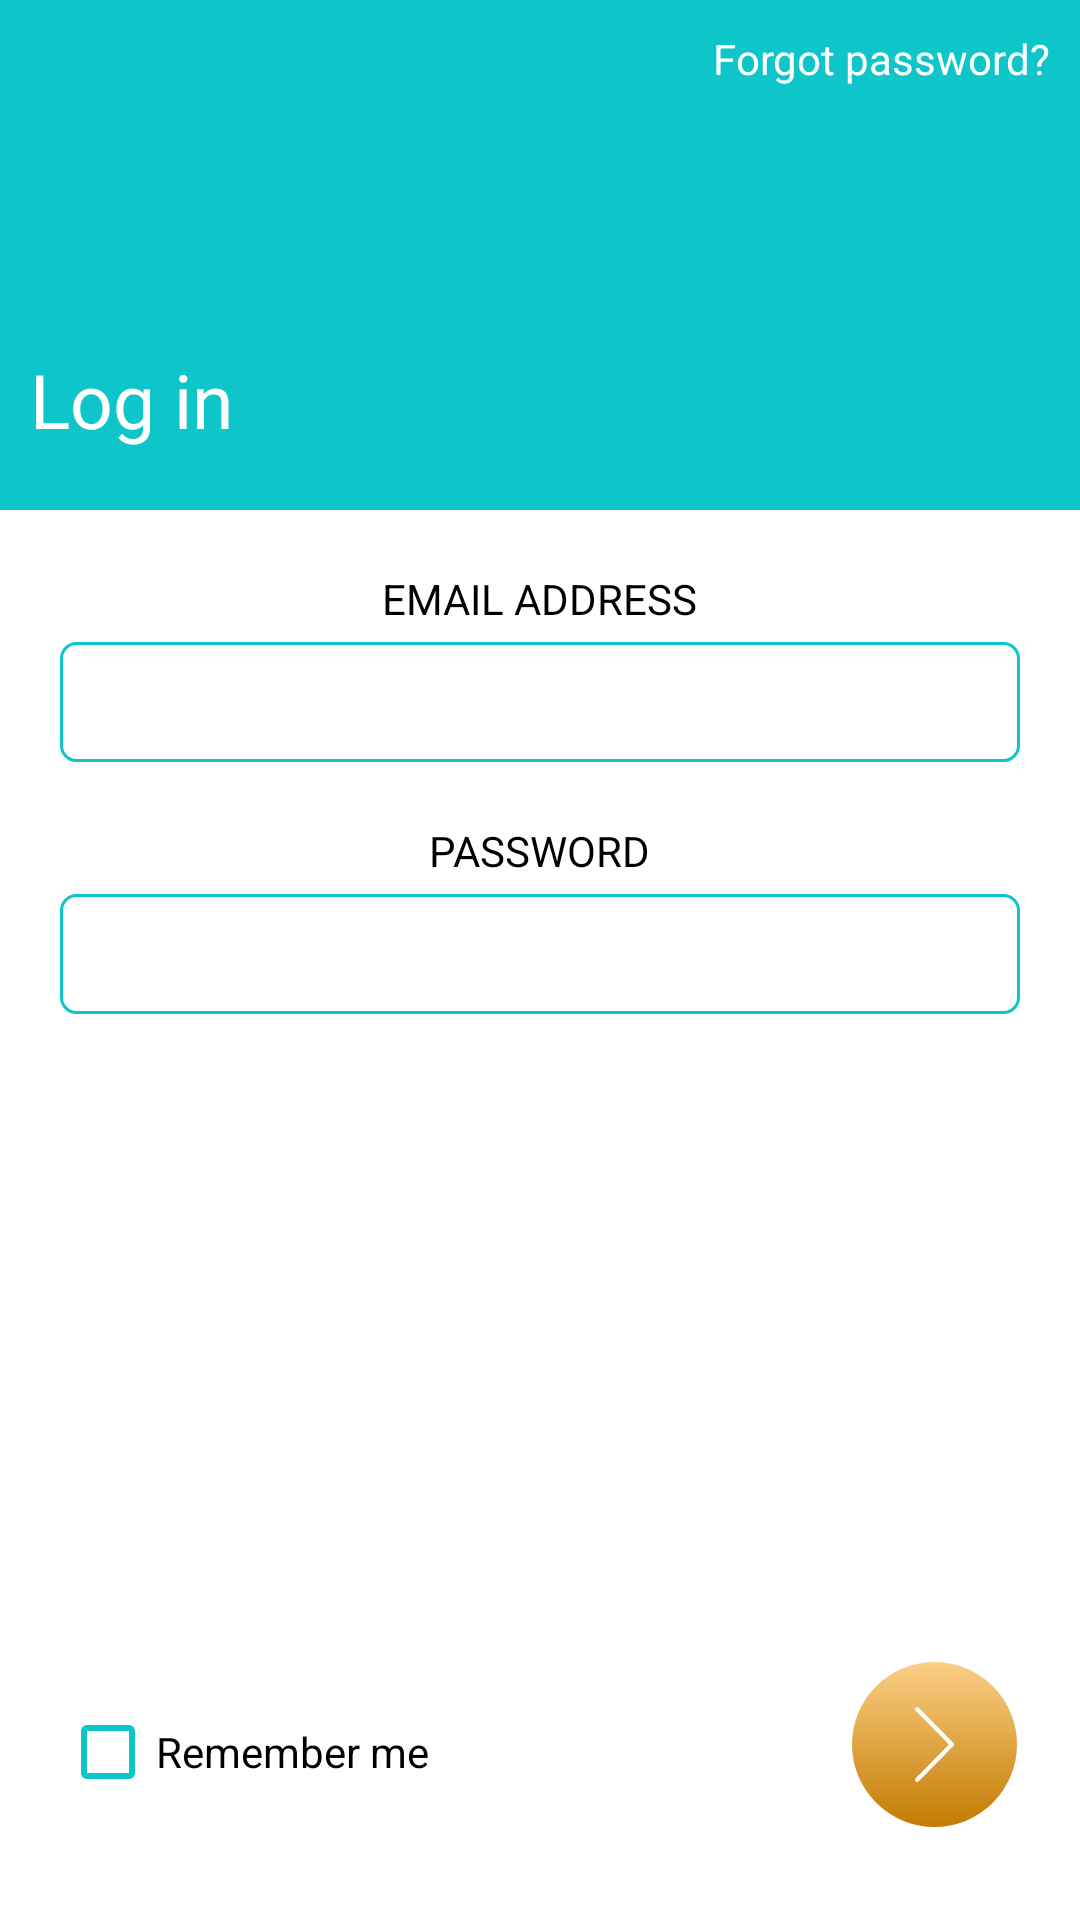

Where to tap for icons on this 1080w x 1920h app screen, as [x,y]:
arrow right: [934,1744]
